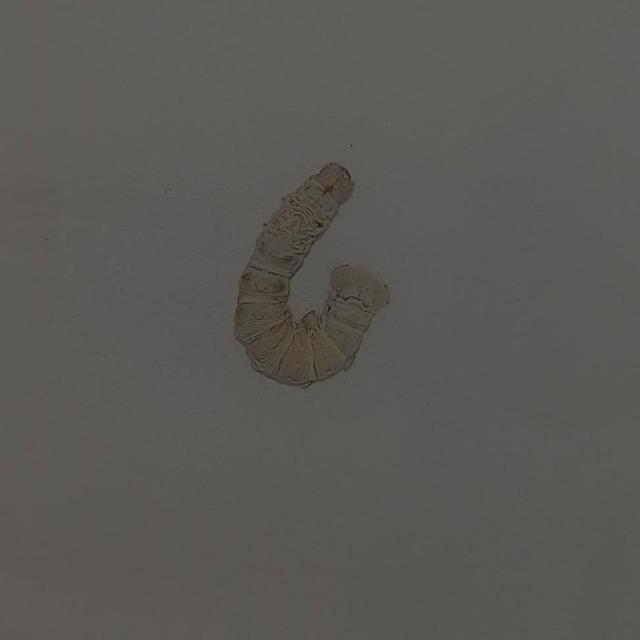Healthy: (202, 128, 408, 421)
